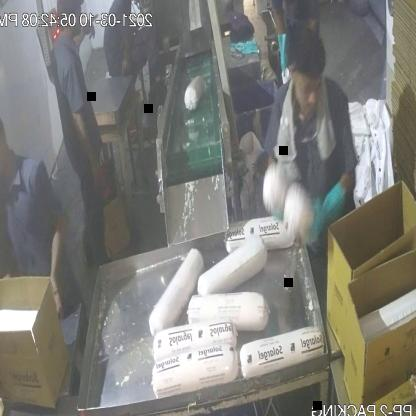glove: (298, 173, 348, 254)
no_glove: (66, 100, 105, 204), (40, 194, 71, 324), (73, 5, 99, 66)
